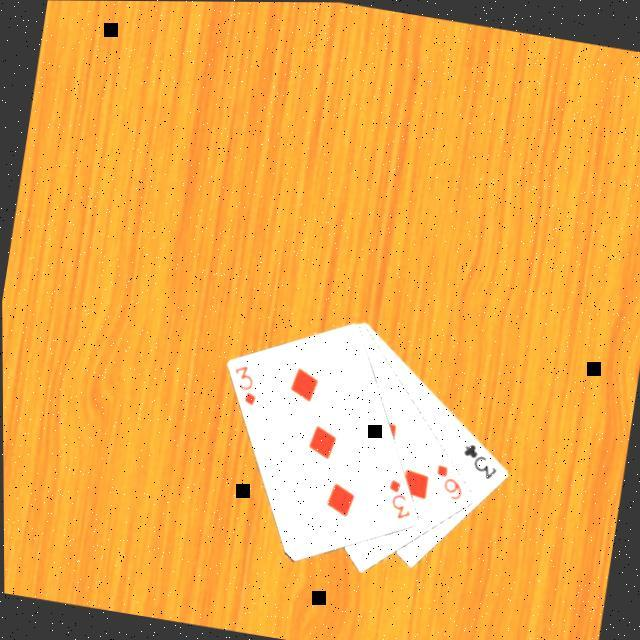3C: (454, 436, 502, 482)
3D: (378, 472, 417, 522), (224, 358, 262, 408)
6D: (427, 458, 467, 501)
